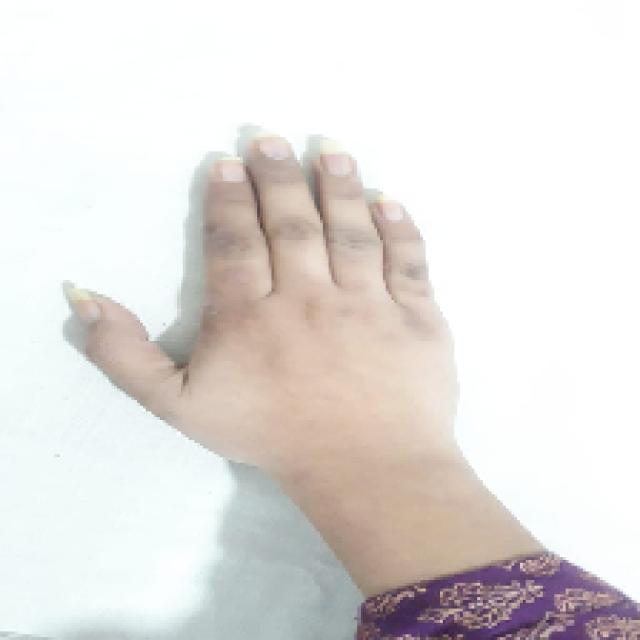Nail: (70, 289, 101, 324), (320, 152, 356, 178), (258, 138, 292, 161), (218, 159, 249, 182), (376, 200, 406, 222)
